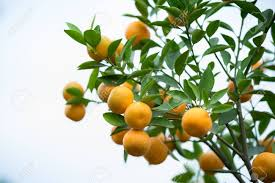orange: (182, 105, 213, 139), (122, 129, 151, 157), (125, 20, 152, 49), (85, 33, 114, 60), (123, 103, 153, 129), (105, 86, 133, 112), (146, 138, 171, 163), (62, 79, 86, 102), (61, 102, 88, 122)
